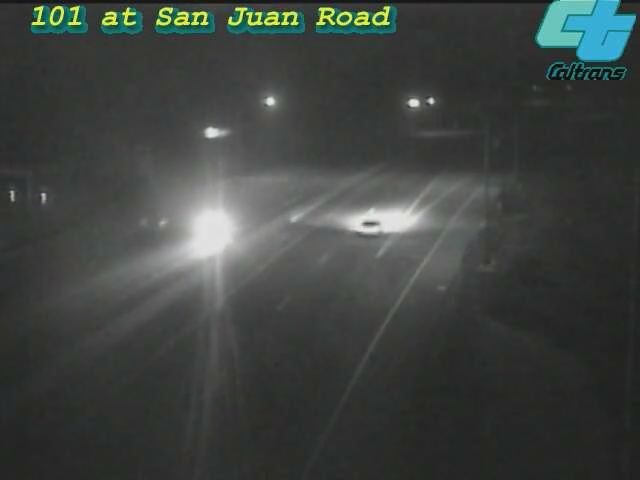vehicle: (327, 191, 407, 271), (169, 190, 249, 270)
